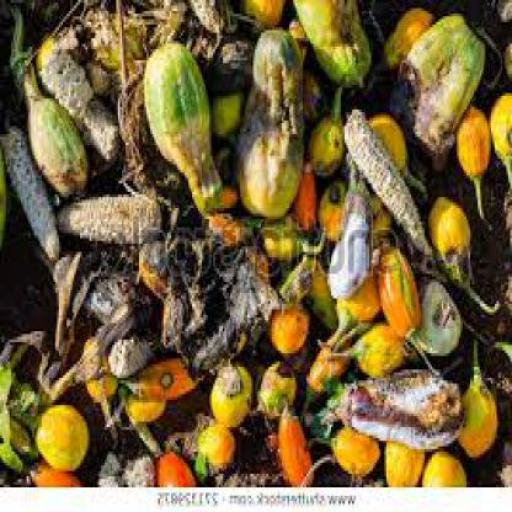biodegradable: (398, 11, 489, 164), (12, 27, 95, 192), (238, 24, 308, 216), (146, 41, 226, 208), (345, 106, 432, 250), (314, 367, 466, 443), (40, 41, 126, 153), (2, 123, 68, 263), (202, 241, 282, 356), (430, 191, 503, 312), (118, 68, 186, 192), (54, 298, 142, 392), (142, 233, 212, 348), (294, 0, 374, 82), (329, 164, 374, 298), (59, 194, 165, 242), (461, 328, 500, 456), (78, 2, 152, 69), (376, 244, 424, 344), (148, 0, 228, 60), (455, 102, 493, 227), (54, 244, 92, 348), (413, 277, 465, 353), (384, 0, 438, 71), (126, 351, 204, 400), (86, 266, 154, 322), (286, 254, 337, 328), (306, 326, 352, 405), (38, 402, 92, 466), (278, 394, 318, 480), (346, 318, 416, 366), (314, 85, 351, 172), (336, 271, 384, 337), (211, 356, 253, 427), (2, 328, 53, 382), (335, 419, 386, 473), (139, 236, 186, 290), (198, 416, 238, 479), (112, 320, 162, 370), (206, 36, 254, 85), (384, 433, 428, 484), (491, 90, 511, 194), (270, 298, 308, 352), (370, 113, 409, 164), (127, 378, 172, 422), (259, 359, 299, 408), (423, 444, 472, 482), (32, 26, 66, 80), (320, 178, 350, 238), (2, 350, 19, 452), (209, 216, 254, 252), (213, 85, 247, 132), (261, 219, 303, 257), (299, 154, 318, 235), (8, 372, 44, 414), (242, 0, 290, 31), (160, 446, 198, 482), (32, 460, 86, 482), (12, 413, 40, 455), (286, 19, 310, 68), (88, 362, 118, 400), (373, 192, 397, 238), (100, 446, 129, 482), (310, 70, 331, 112), (2, 438, 29, 465), (134, 452, 158, 482), (506, 36, 512, 82)
